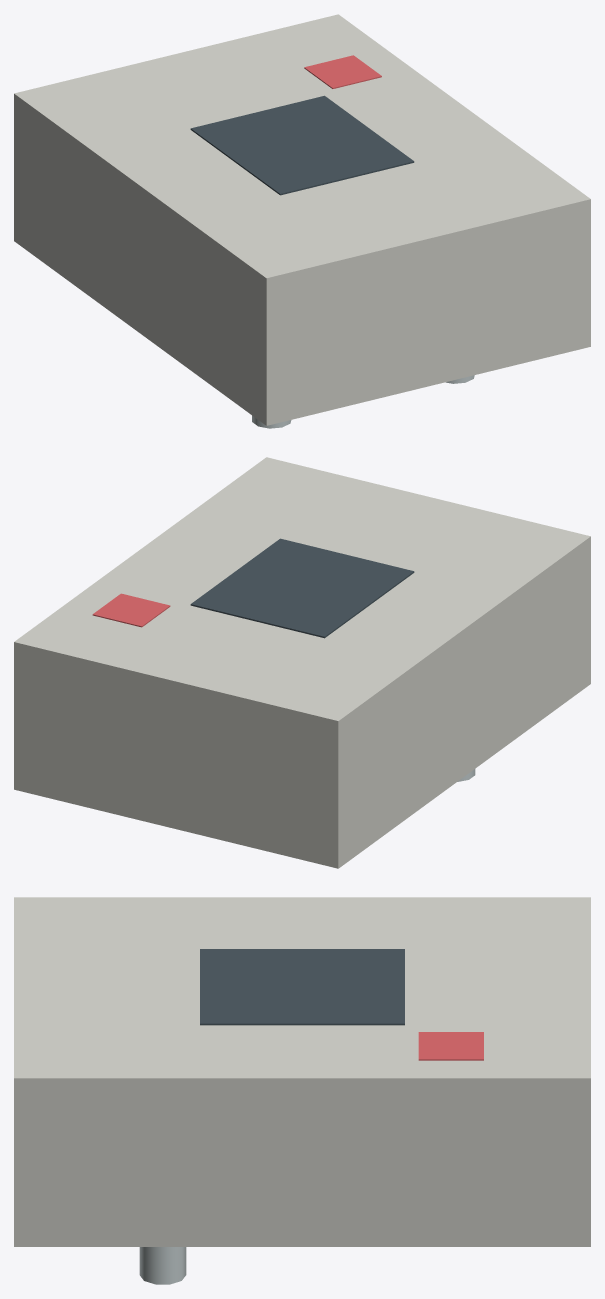
File: mixer.gltf
3 views of the same model, one above another, from view 1: azimuth 30°, elevation 25°; view 2: azimuth 150°, elevation 25°; view 3: azimuth 270°, elevation 25° (orthographic). The views are drawn at different scales.
Size of the model in its own units: 0.46 by 0.282 by 0.62.
